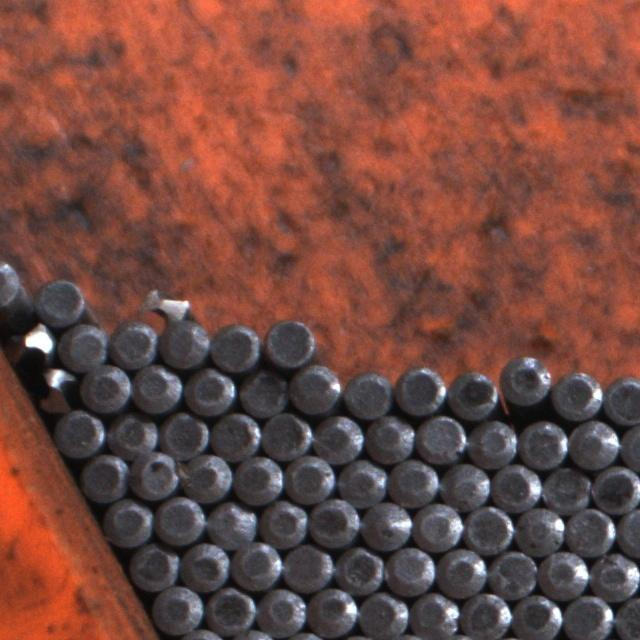tool: (498, 352, 550, 408), (551, 368, 603, 421), (263, 316, 316, 368), (289, 363, 341, 415), (447, 370, 498, 422), (259, 410, 311, 460), (569, 419, 619, 470), (79, 362, 130, 412), (180, 451, 230, 502), (436, 547, 486, 598), (127, 541, 178, 591), (53, 408, 103, 459), (394, 365, 444, 416), (343, 368, 392, 420), (150, 585, 202, 634), (468, 417, 518, 467), (518, 418, 568, 468), (463, 503, 513, 553), (384, 545, 434, 595), (154, 496, 204, 546), (334, 544, 384, 594), (314, 413, 364, 463), (209, 322, 259, 372), (409, 590, 459, 640), (77, 452, 127, 502), (102, 498, 152, 548), (184, 364, 233, 415), (132, 362, 181, 413), (130, 448, 179, 499), (416, 414, 466, 463), (180, 540, 229, 590), (231, 539, 280, 589), (488, 549, 538, 598), (361, 501, 411, 550), (310, 497, 360, 546), (285, 452, 334, 502), (233, 454, 283, 503), (204, 585, 254, 634), (159, 319, 208, 369), (108, 317, 157, 367), (238, 366, 286, 417), (34, 277, 85, 325), (590, 551, 639, 600), (282, 542, 331, 591), (365, 413, 414, 462), (206, 499, 255, 548), (389, 457, 439, 505), (565, 506, 615, 554), (542, 464, 590, 514), (158, 410, 208, 458), (592, 466, 640, 516), (106, 410, 156, 458), (358, 590, 408, 638), (491, 462, 539, 511), (210, 411, 259, 459), (413, 502, 462, 550), (257, 586, 305, 635), (516, 504, 564, 553), (539, 550, 588, 598), (461, 591, 509, 640), (308, 587, 356, 636), (260, 498, 308, 547), (512, 592, 560, 640), (58, 323, 106, 371), (562, 593, 611, 640), (442, 461, 490, 508), (339, 458, 387, 504), (34, 361, 80, 407), (602, 376, 640, 426), (16, 319, 59, 360), (613, 593, 640, 640), (618, 506, 640, 556), (0, 256, 22, 304)
